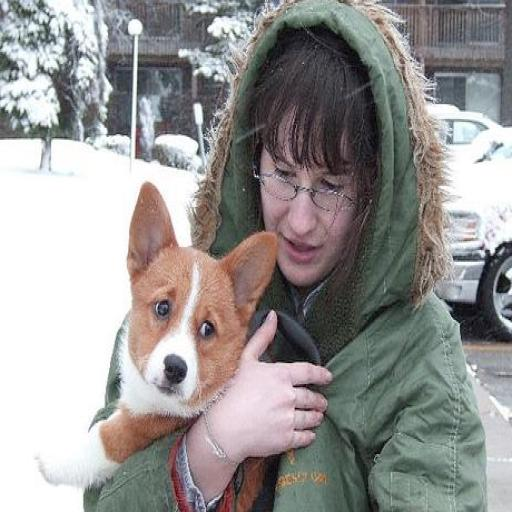dog_face: (111, 190, 272, 389)
